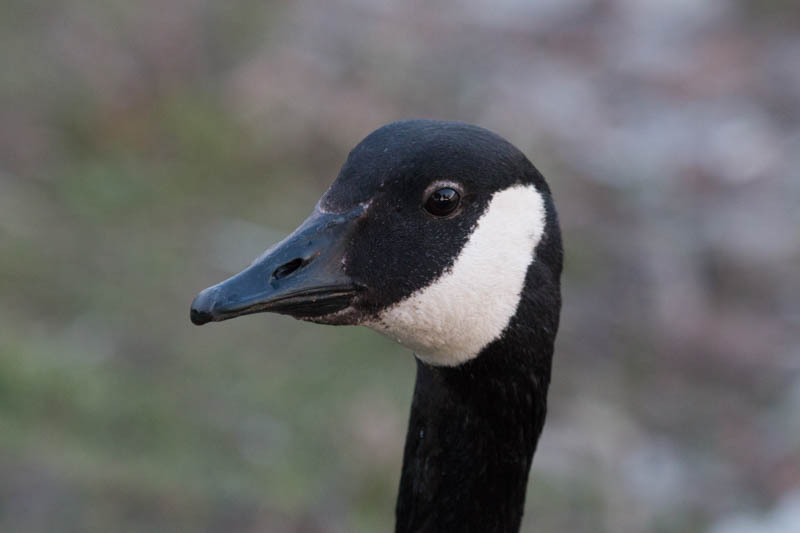goose-head: (189, 119, 565, 368)
